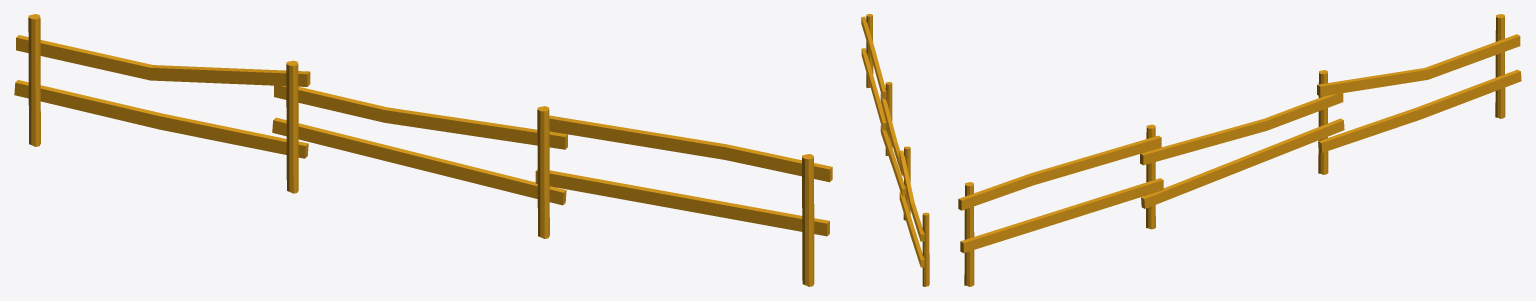
Rendered from Staccionata.fbx.
The picture shows the model from 3 angles, left to right: view 1: azimuth 30°, elevation 25°; view 2: azimuth 150°, elevation 25°; view 3: azimuth 270°, elevation 25°; orthographic projection. The views are drawn at different scales.
Parts seen in each view (by area): view 1: Cylinder.041; view 2: Cylinder.041; view 3: Cylinder.041.
Part boxes in pixels (x1,y1,x2,y2): Cylinder.041: (14,14,832,286); Cylinder.041: (861,14,929,286); Cylinder.041: (958,14,1521,286).
Size of the model in its own units: 105 by 27.65 by 140.
